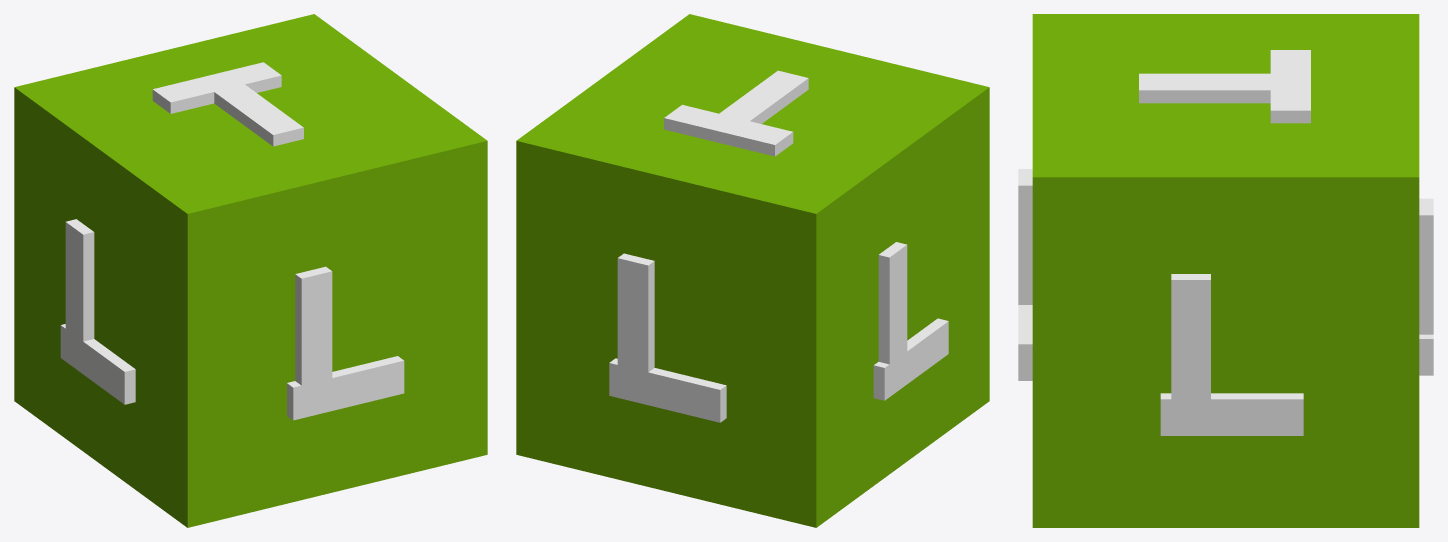
File: TARGET_4.glb
3 renders of one model, left to right at view 1: azimuth 30°, elevation 25°; view 2: azimuth 150°, elevation 25°; view 3: azimuth 270°, elevation 25°, orthographic. The views are drawn at different scales.
Parts seen in each view (by area): view 1: TARGET_HIGH_4; view 2: TARGET_HIGH_4; view 3: TARGET_HIGH_4.
Boxes of the visible parts, x1=… form: TARGET_HIGH_4: x1=14, y1=14, x2=487, y2=527; TARGET_HIGH_4: x1=516, y1=14, x2=989, y2=527; TARGET_HIGH_4: x1=1018, y1=14, x2=1433, y2=527.
Size of the model in its own units: 2.15 by 2.15 by 2.15.
